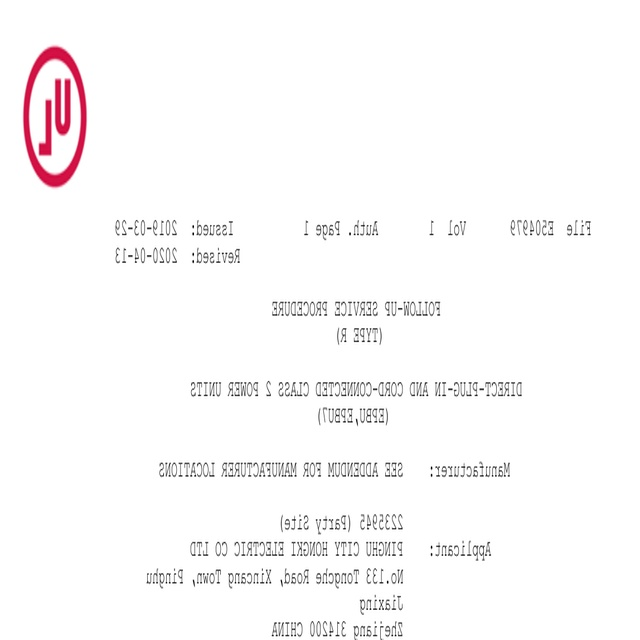ul: (24, 43, 88, 193)
